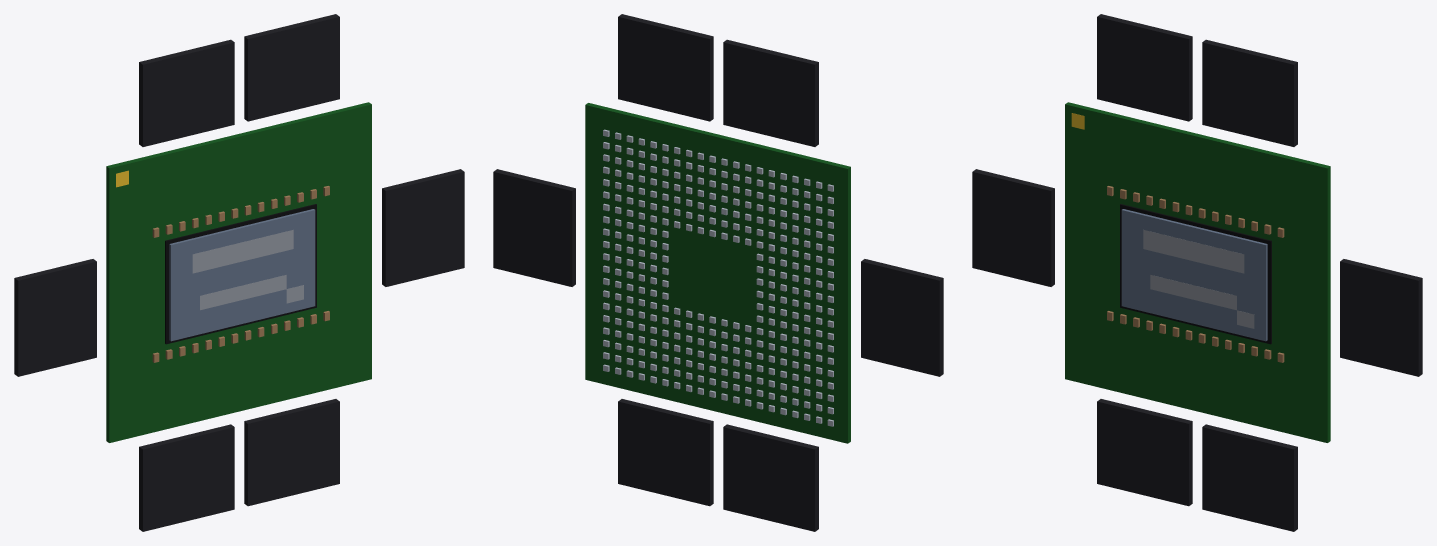
The model's file is GPU_NVIDIA_GEFORCE_RTX_4080_LAPTOP_BGA.obj.
3 views of the same model, side by side, from view 1: azimuth 30°, elevation 25°; view 2: azimuth 150°, elevation 25°; view 3: azimuth 330°, elevation 25° (orthographic).
Bounding box in the file's own units: 68 × 68 × 1.81.
